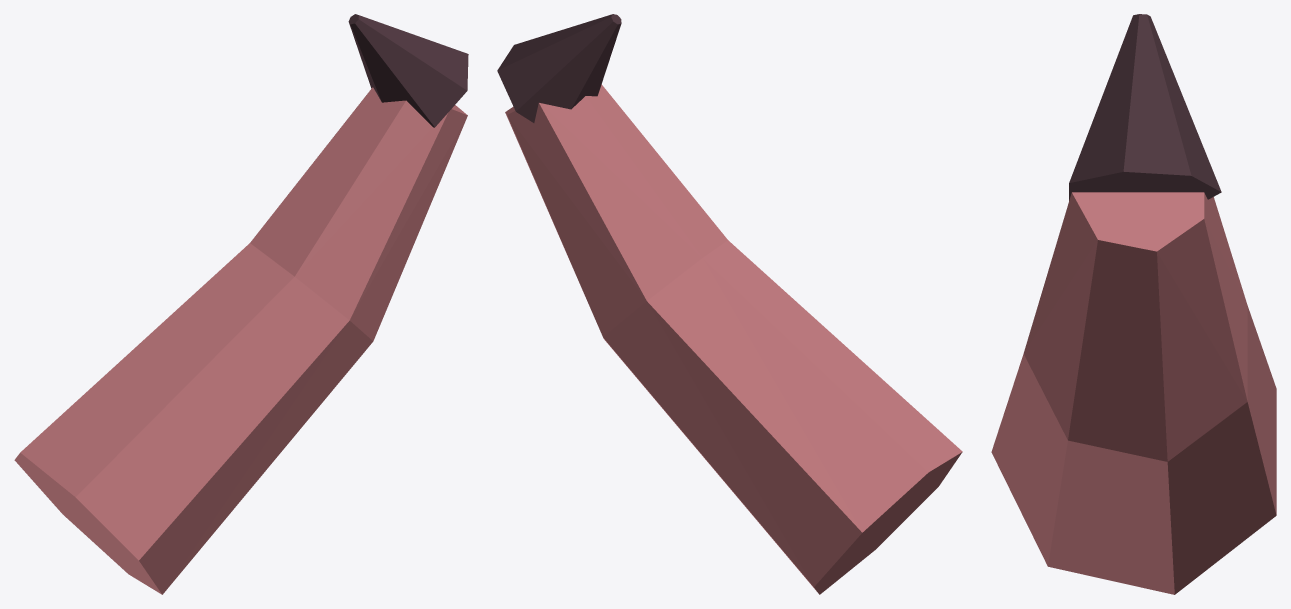
The model's file is bulbfreak_appendage_0.obj.
3 renders of one model, left to right at view 1: azimuth 30°, elevation 25°; view 2: azimuth 150°, elevation 25°; view 3: azimuth 270°, elevation 25°, orthographic. The views are drawn at different scales.
Visible parts, largest first — view 1: bulbfreak_appendage_0; view 2: bulbfreak_appendage_0; view 3: bulbfreak_appendage_0.
Boxes of the visible parts, x1,y1,x2,y2 form: bulbfreak_appendage_0: (14, 14, 468, 594); bulbfreak_appendage_0: (497, 14, 962, 594); bulbfreak_appendage_0: (991, 14, 1276, 594).
Bounding box in the file's own units: 0.6917 × 0.7915 × 0.2794.
